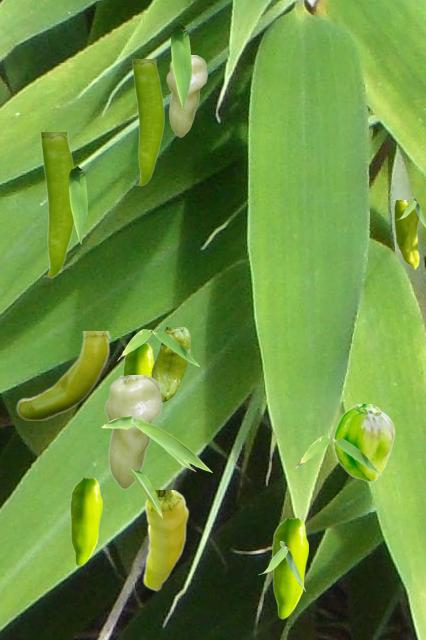green_chili: (15, 331, 110, 419), (104, 375, 161, 488), (39, 132, 74, 277), (333, 404, 394, 481), (142, 490, 188, 590), (131, 59, 163, 185), (272, 518, 307, 618), (165, 55, 206, 136), (151, 327, 189, 401), (70, 478, 101, 565), (393, 200, 418, 268), (123, 343, 154, 375)
